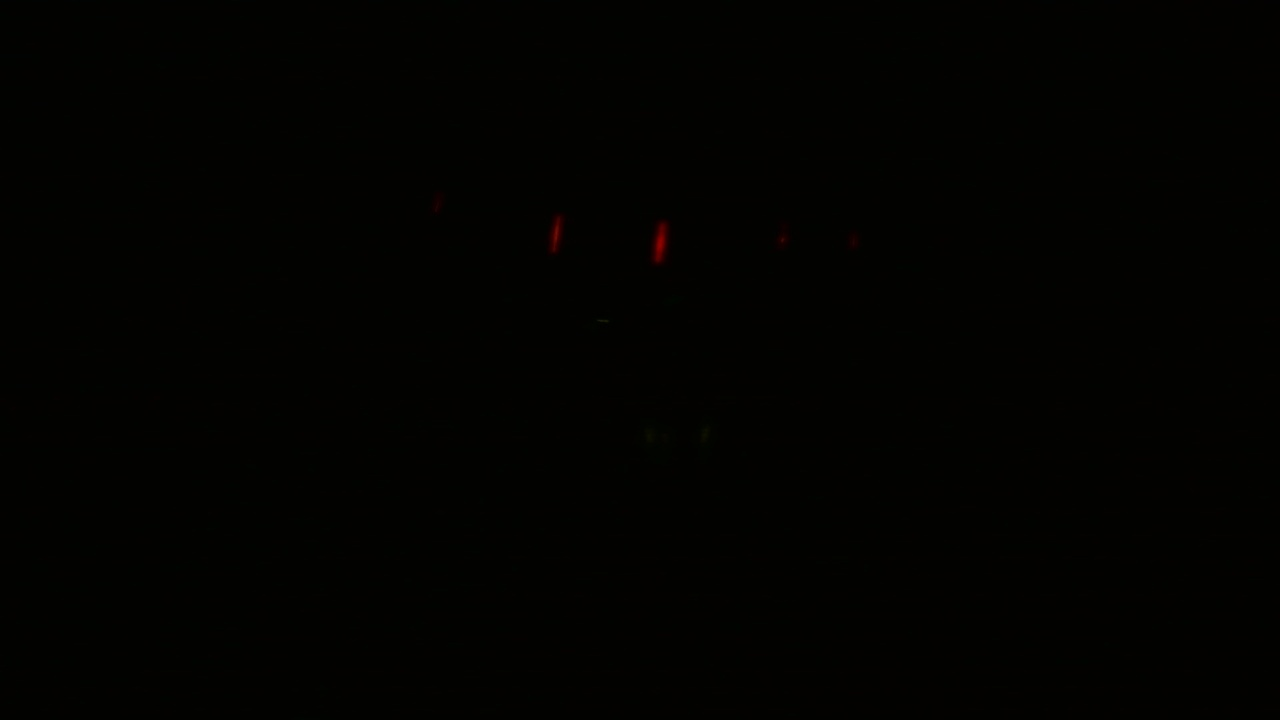pair1: (549, 212, 668, 264)
